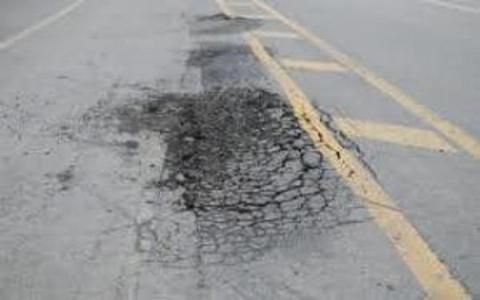patchy roads: (115, 19, 348, 256)
